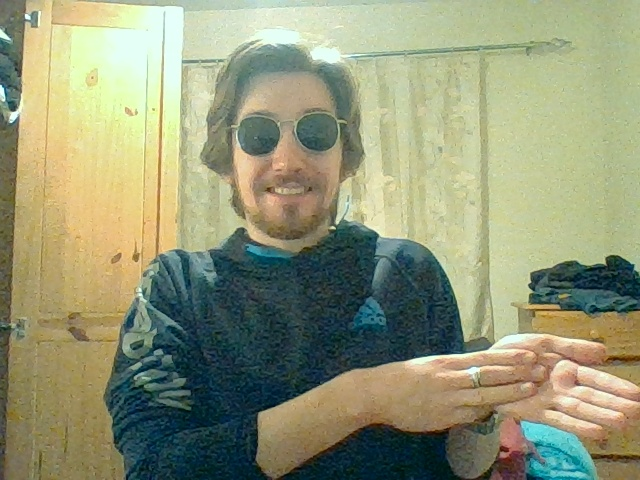mother: (456, 333, 640, 437)
